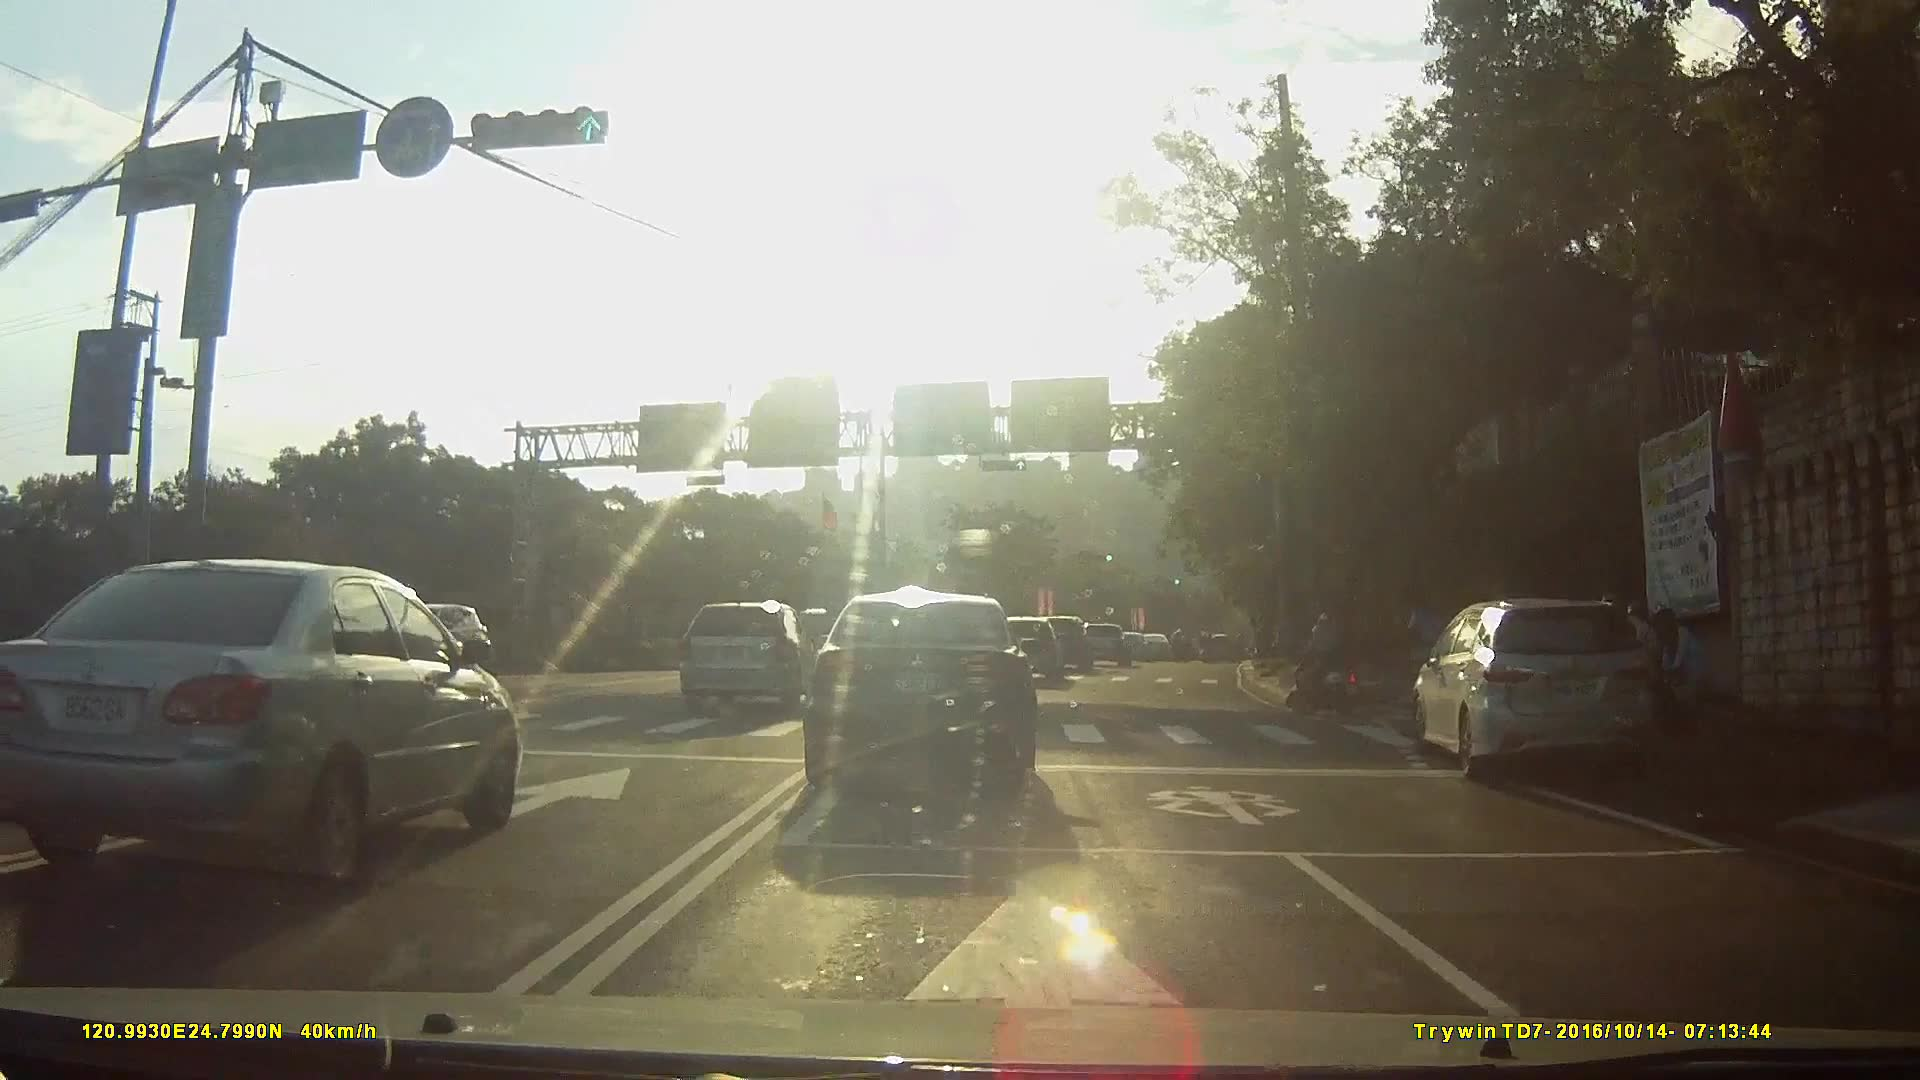pedestrian: (1653, 604, 1714, 717)
rider: (1286, 611, 1372, 717)
vehicle: (0, 562, 537, 892), (795, 596, 1063, 816), (1402, 599, 1685, 802), (121, 580, 326, 793), (691, 602, 839, 716), (1011, 620, 1085, 690), (1045, 618, 1107, 676), (1089, 624, 1143, 670), (1123, 632, 1162, 664), (1149, 636, 1182, 664)
